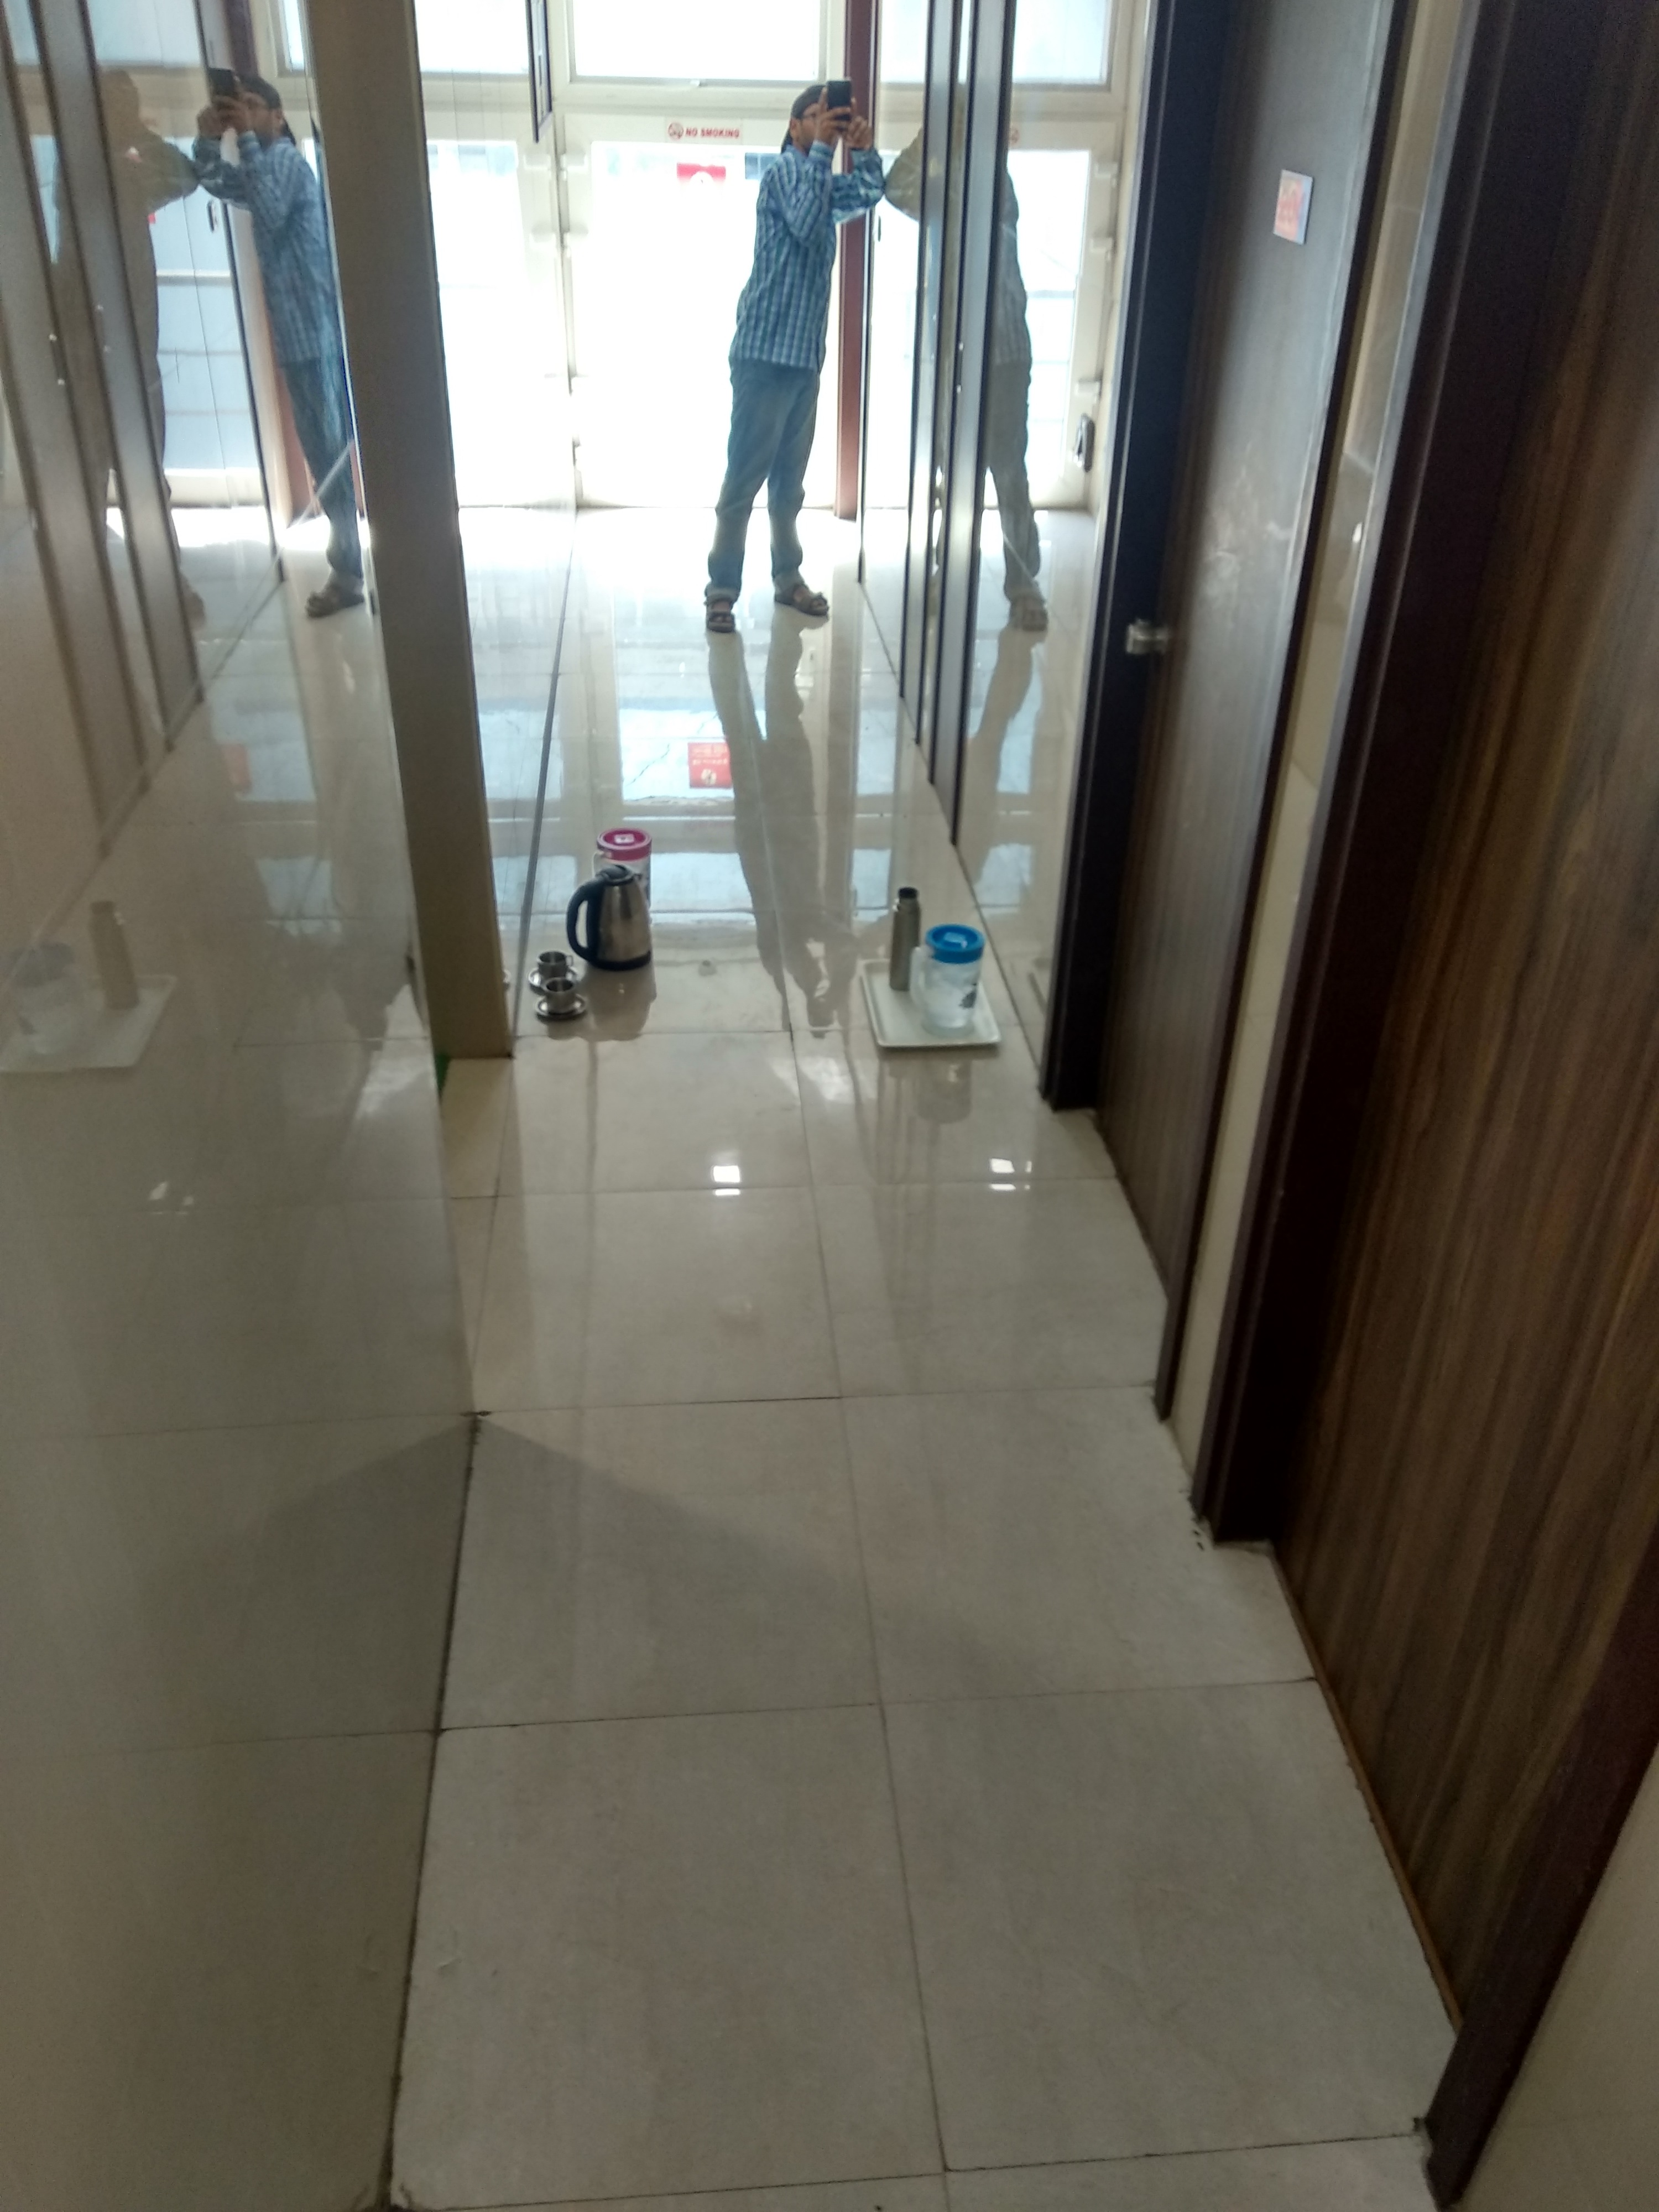CUP: (537, 975, 591, 1022), (532, 944, 579, 982)
FLASK: (884, 883, 929, 993)
JUG: (908, 921, 997, 1042), (568, 866, 660, 972), (589, 817, 660, 862)
